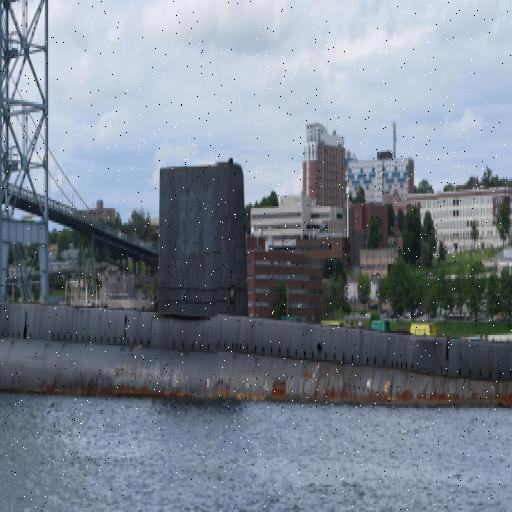submarine: (1, 163, 512, 403)
